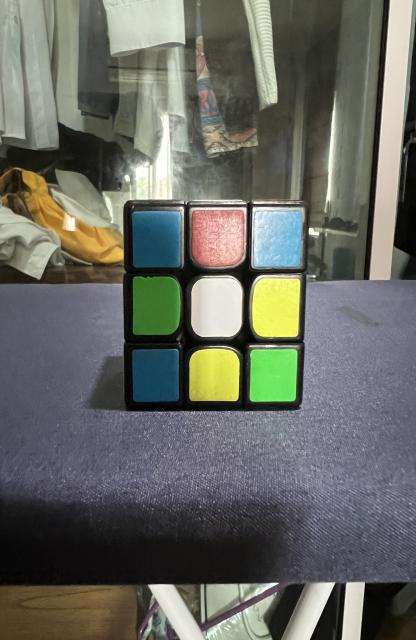Blue: (252, 209, 302, 268), (132, 211, 181, 268), (132, 349, 179, 402)
Green: (132, 276, 181, 335), (249, 349, 298, 402)
Red: (192, 209, 245, 266)
White: (191, 276, 243, 338)
Yellow: (251, 278, 300, 338), (190, 349, 239, 401)
